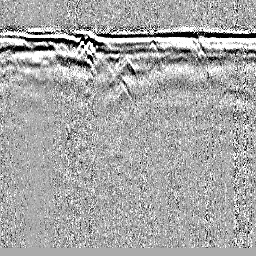cavity: (118, 58, 136, 76)
